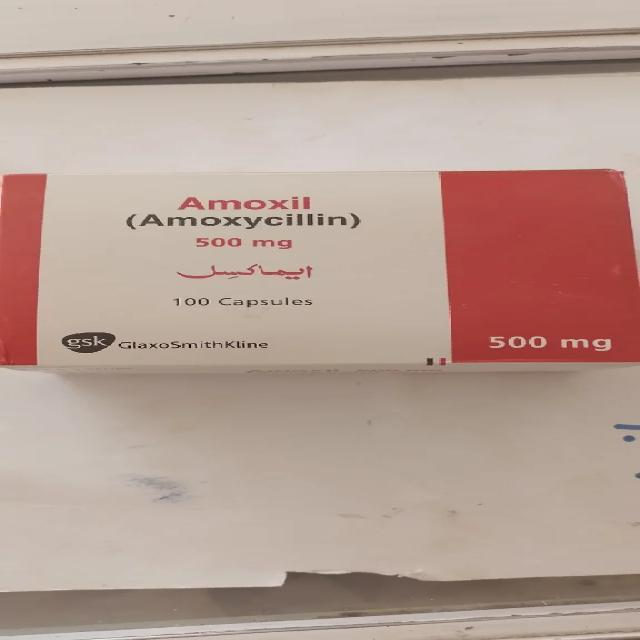drug-name: (179, 194, 317, 212)
